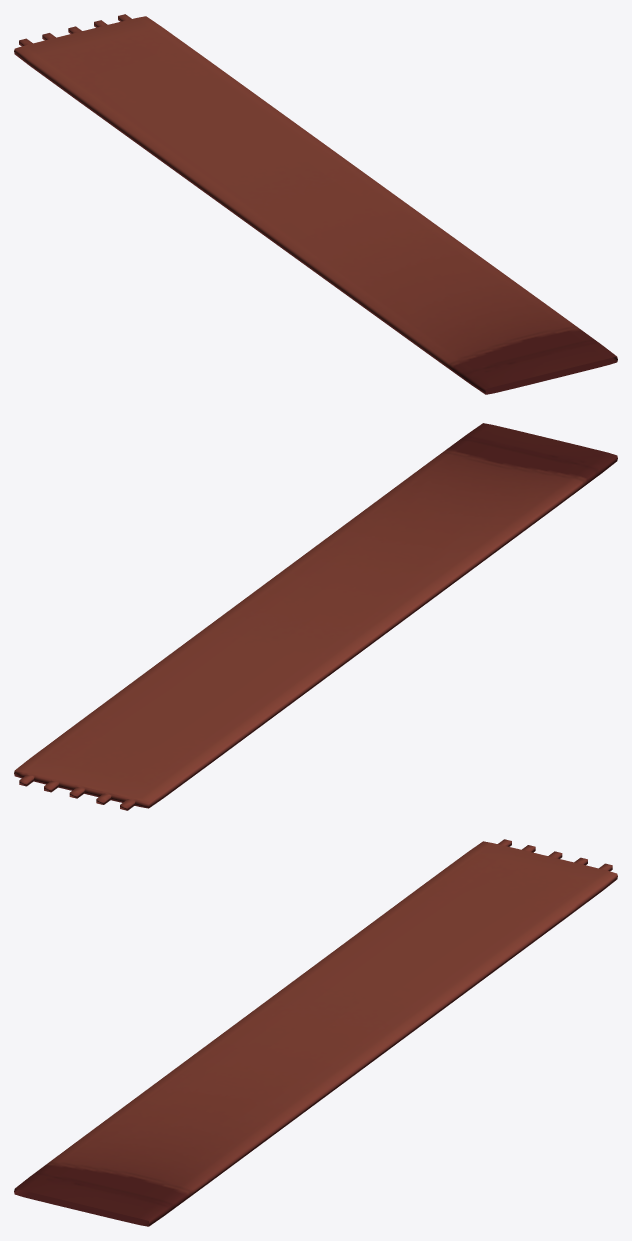
The model's file is OnlyScarf (1).fbx.
3 views of the same model, one above another, from view 1: azimuth 30°, elevation 25°; view 2: azimuth 150°, elevation 25°; view 3: azimuth 330°, elevation 25° (orthographic).
Visible parts, largest first — view 1: Scarf; view 2: Scarf; view 3: Scarf.
Part boxes in pixels (left/top/right/bottom): Scarf: left=14, top=14, right=617, bottom=394; Scarf: left=14, top=423, right=617, bottom=810; Scarf: left=14, top=839, right=617, bottom=1226.
Bounding box in the file's own units: 1.47 × 0.0972 × 8.69.
